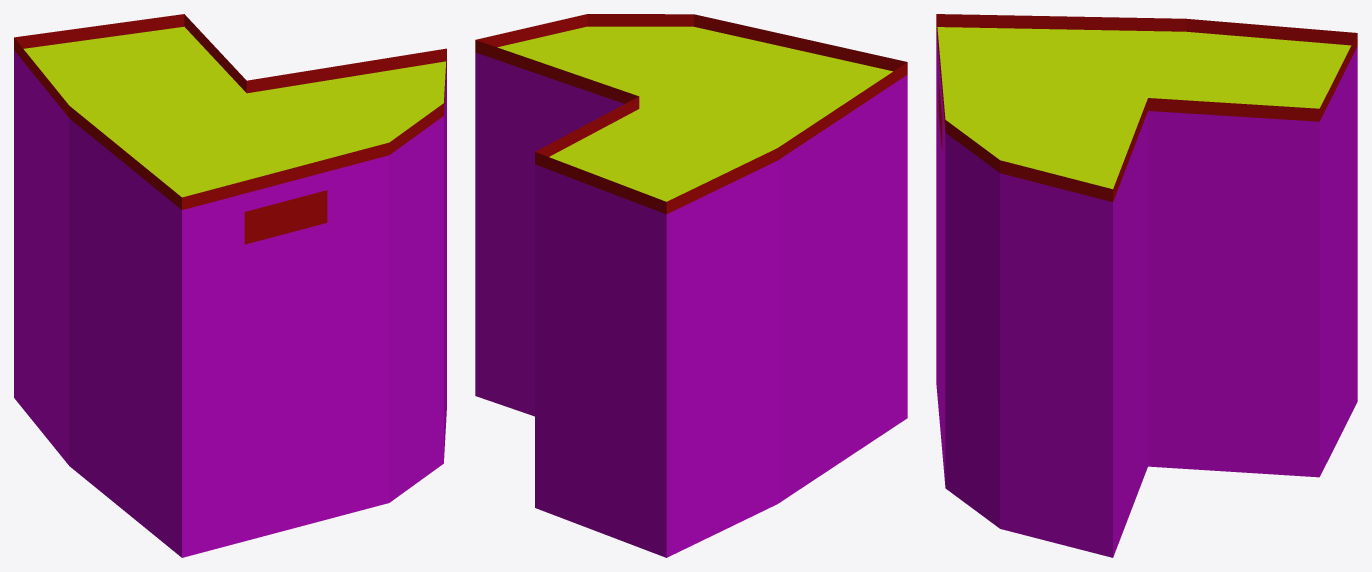
File: bgj_309.glb
3 renders of one model, left to right at view 1: azimuth 30°, elevation 25°; view 2: azimuth 150°, elevation 25°; view 3: azimuth 270°, elevation 25°, orthographic. The views are drawn at different scales.
Visible parts, largest first — view 1: bgj_309; view 2: bgj_309; view 3: bgj_309.
Boxes of the visible parts, bbox=[...] form: bgj_309: bbox=[14, 14, 446, 557]; bgj_309: bbox=[475, 14, 907, 557]; bgj_309: bbox=[936, 14, 1357, 557].
Size of the model in its own units: 10.12 by 9.92 by 10.28.
